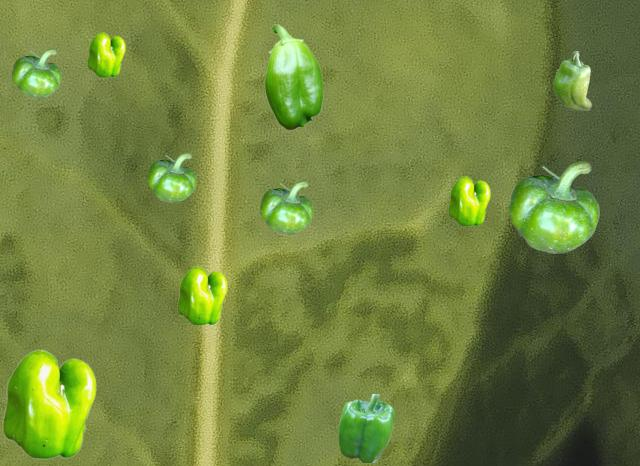bell_pepper: (2, 349, 95, 458), (509, 161, 598, 252), (264, 24, 322, 129), (338, 394, 393, 461), (177, 266, 226, 324), (260, 180, 312, 233), (147, 152, 195, 201), (12, 48, 60, 97), (553, 51, 590, 109), (448, 176, 489, 225), (87, 32, 124, 76)
